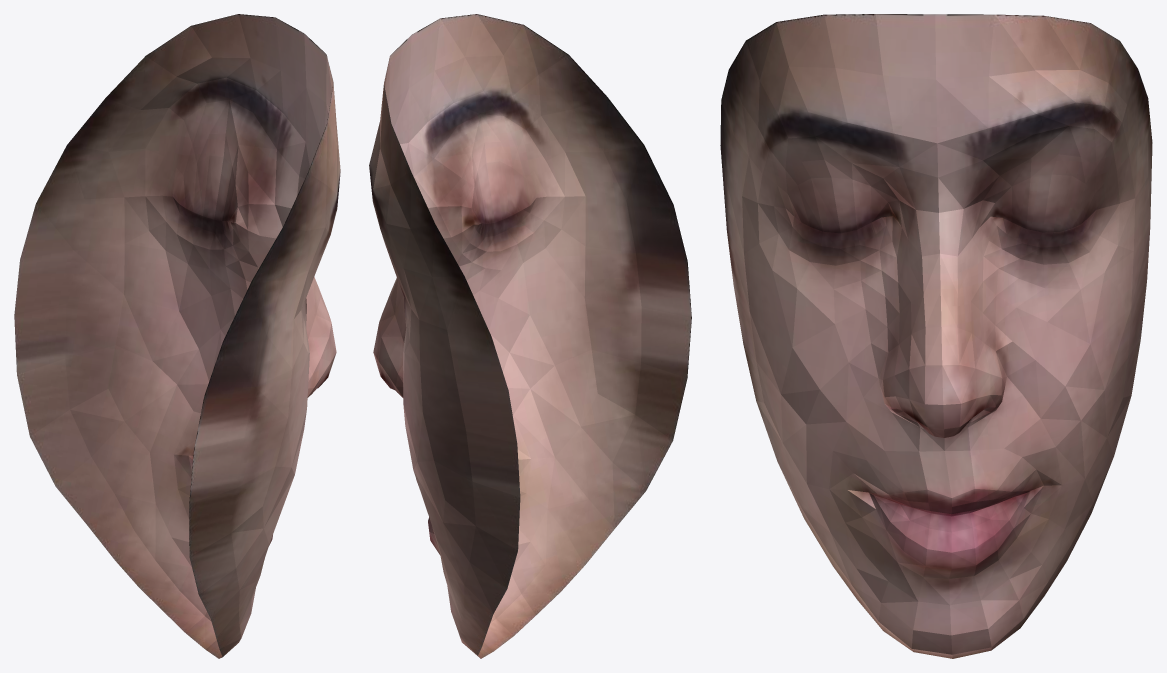
3 views of the same model, side by side, from view 1: azimuth 30°, elevation 25°; view 2: azimuth 150°, elevation 25°; view 3: azimuth 270°, elevation 25° (orthographic). The views are drawn at different scales.
Parts seen in each view (by area): view 1: mirace3; view 2: mirace3; view 3: mirace3.
Part boxes in pixels (box(x1,y1,x2,y2)): mirace3: box(14, 14, 340, 658); mirace3: box(369, 14, 691, 658); mirace3: box(720, 14, 1152, 658).
Bounding box in the file's own units: 0.1692 × 0.4245 × 0.2387.
1 material, 1 textured.
